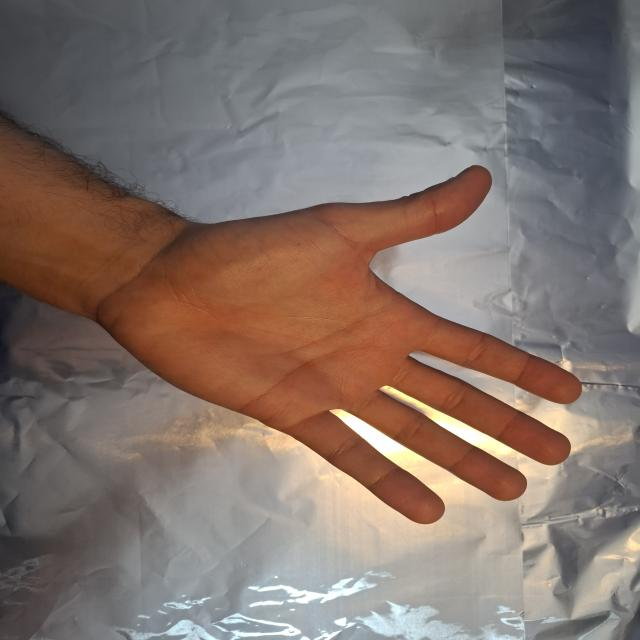glove_off: (94, 160, 586, 527)
